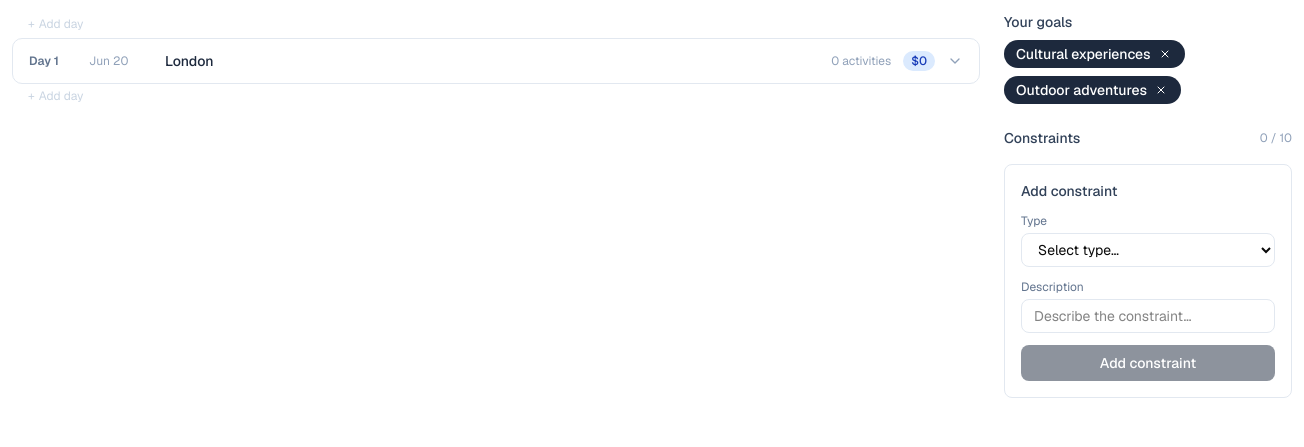
goalError — cleared on next success › error message disappears after a subsequent successful remove
Expected: the text "Cultural experiences" is shown, [1004,40,1185,68]
First remove of Cultural fails — both goals restored by rollback
Click the button named "remove cultural experiences" at x=1165, y=54, box [1157,46,1173,62]
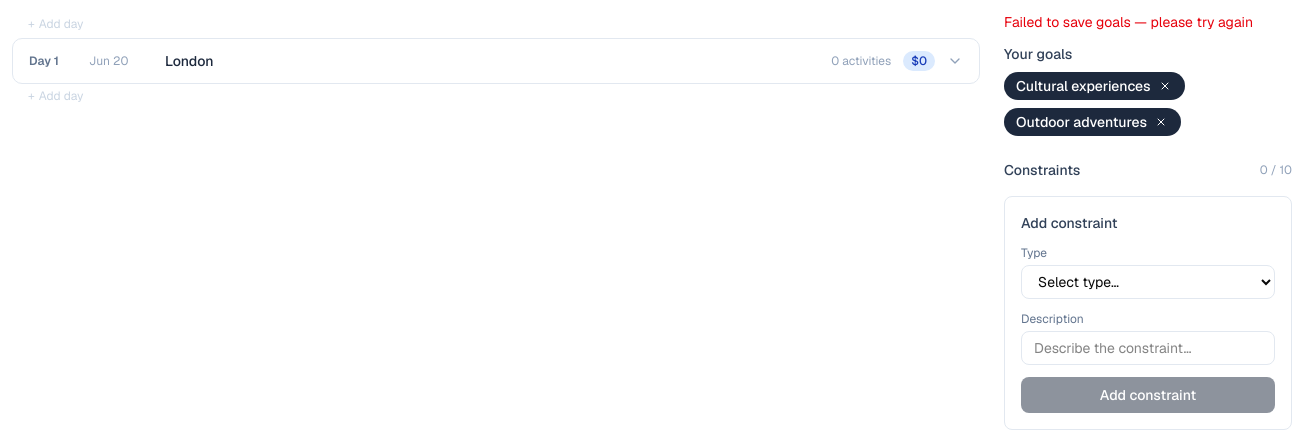
Expected: the text "Cultural experiences" is shown, [1004,72,1185,100]
Now the text "Failed to save goals — please try again" is shown, box [1004,12,1292,32]
Retry remove — succeeds this time
Click the button named "remove cultural experiences" at x=1165, y=86, box [1157,78,1173,94]
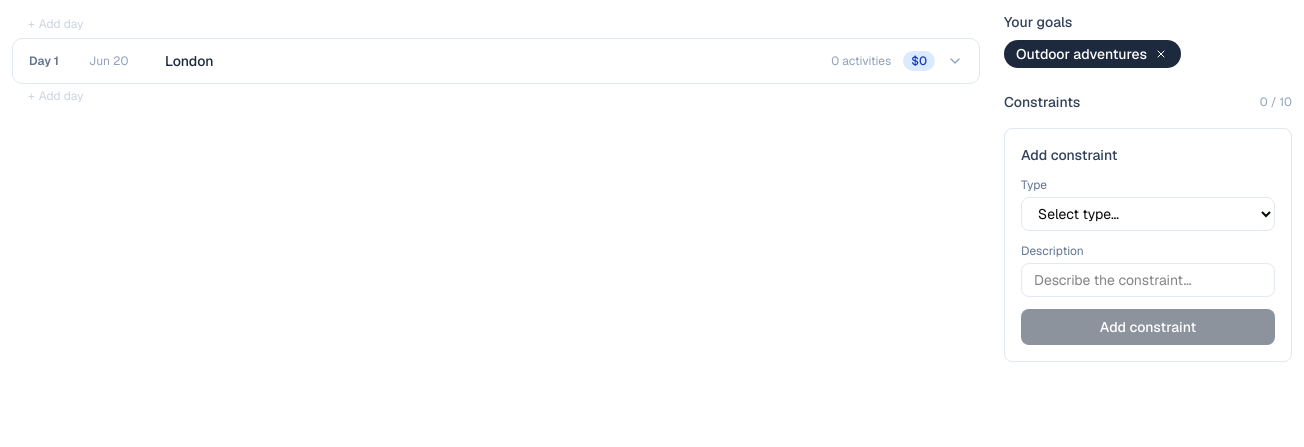
Now the text "Failed to save goals" is gone
